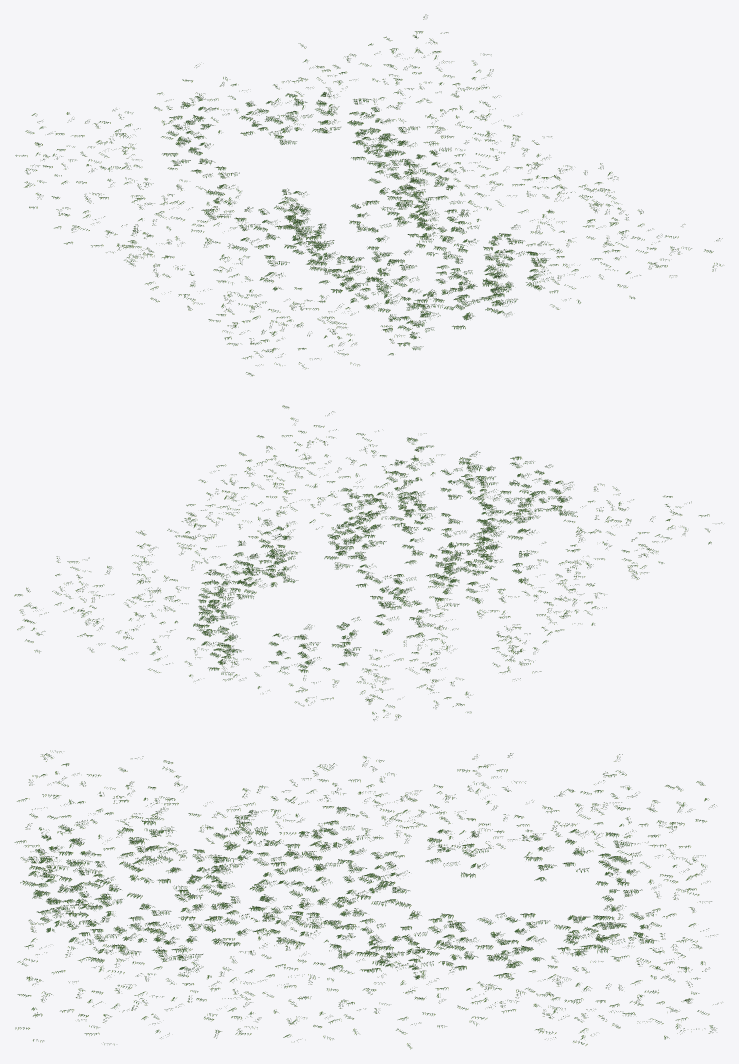
File: bamboo_leaves_5.glb
3 views of the same model, one above another, from view 1: azimuth 30°, elevation 25°; view 2: azimuth 150°, elevation 25°; view 3: azimuth 270°, elevation 25° (orthographic). The views are drawn at different scales.
Visible parts, largest first — view 1: bamboo_leaves_50, bamboo_leaves_51, bamboo_leaves_52; view 2: bamboo_leaves_50, bamboo_leaves_51, bamboo_leaves_52; view 3: bamboo_leaves_50, bamboo_leaves_51, bamboo_leaves_52.
Boxes of the visible parts, x1,y1,x2,y2 form: bamboo_leaves_50: [15, 14, 551, 264]; bamboo_leaves_51: [122, 134, 623, 343]; bamboo_leaves_52: [226, 209, 722, 376]; bamboo_leaves_50: [14, 518, 556, 720]; bamboo_leaves_51: [175, 452, 647, 635]; bamboo_leaves_52: [244, 405, 721, 568]; bamboo_leaves_50: [364, 753, 721, 1049]; bamboo_leaves_51: [142, 756, 390, 1041]; bamboo_leaves_52: [14, 750, 174, 1045].
Size of the model in its own units: 83.81 by 10.52 by 93.81.
1 material, 1 textured.
